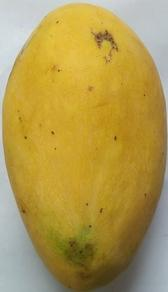Ripe: (0, 1, 168, 292)
